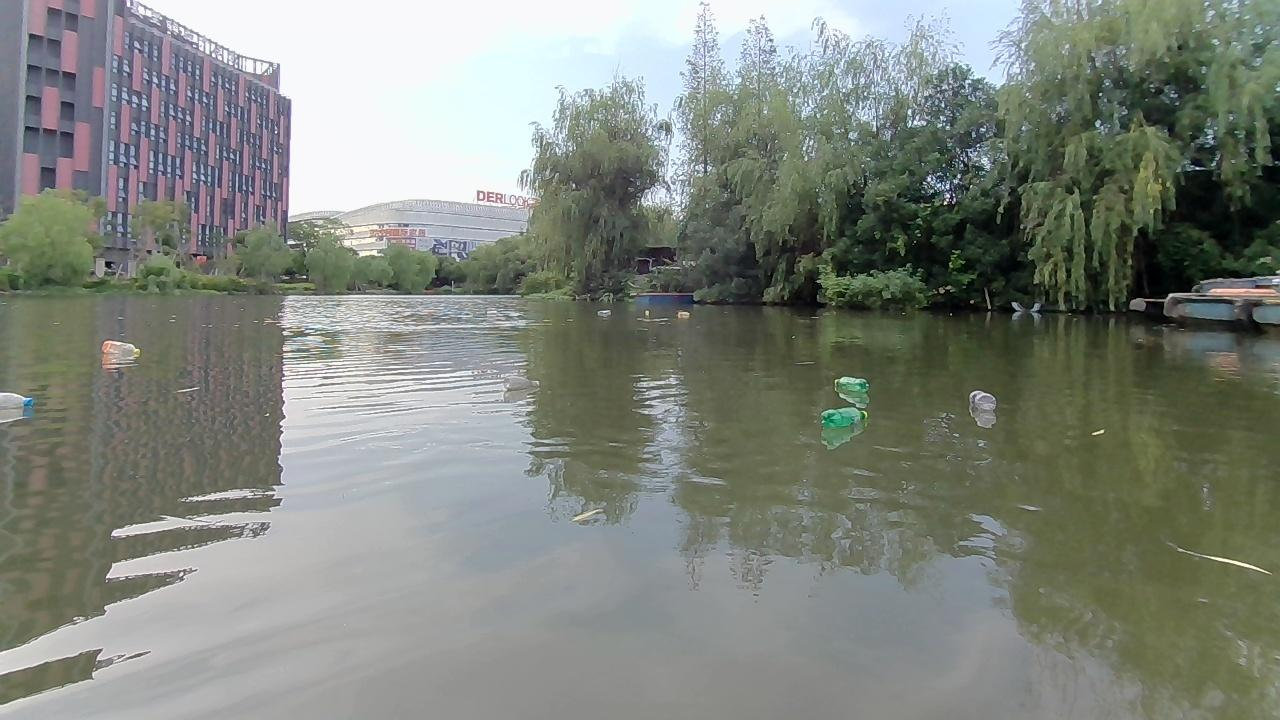bottle: (2, 388, 38, 423), (95, 337, 139, 359), (962, 387, 999, 413), (821, 407, 863, 427), (830, 374, 868, 395), (593, 305, 610, 320), (676, 308, 685, 320)
